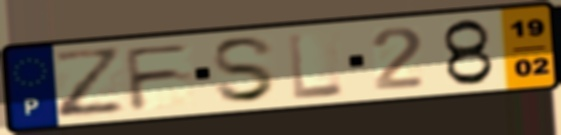2: (369, 25, 426, 92)
8: (440, 17, 496, 87)
F: (120, 41, 195, 114)
L: (285, 30, 348, 102)
S: (209, 35, 280, 106)
Z: (48, 45, 129, 122)
